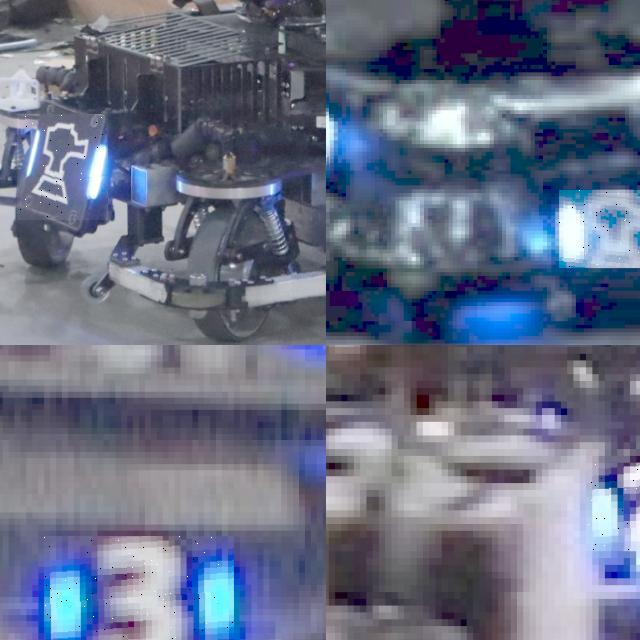B2: (586, 462, 640, 551)
B3: (44, 536, 233, 640)
Bs: (17, 114, 108, 220), (559, 189, 640, 268)
